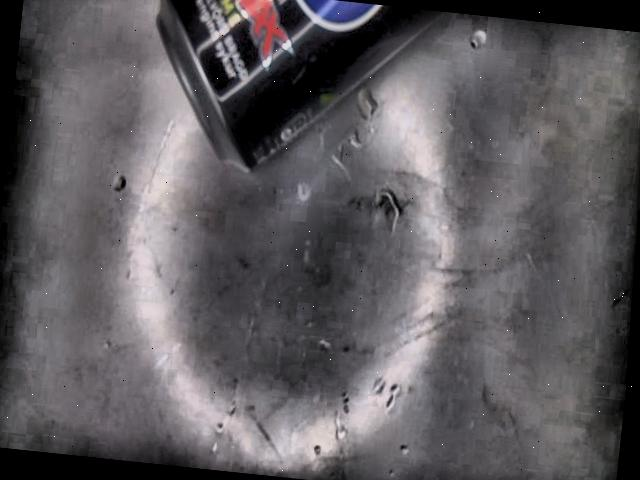Bottles: (155, 0, 453, 173)
